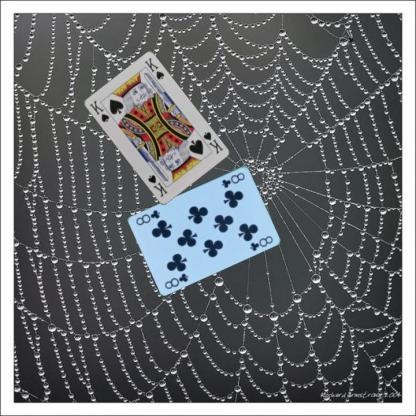8c: (162, 270, 190, 290), (219, 170, 246, 189)
Ks: (87, 98, 110, 124), (200, 129, 223, 155)
